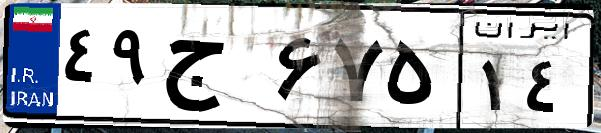1: (475, 38, 525, 113)
4: (57, 26, 110, 100), (525, 38, 570, 115)
5: (385, 28, 445, 110)
6: (270, 28, 330, 110)
7: (330, 28, 385, 110)
9: (110, 28, 158, 98)
ج: (158, 20, 270, 120)
